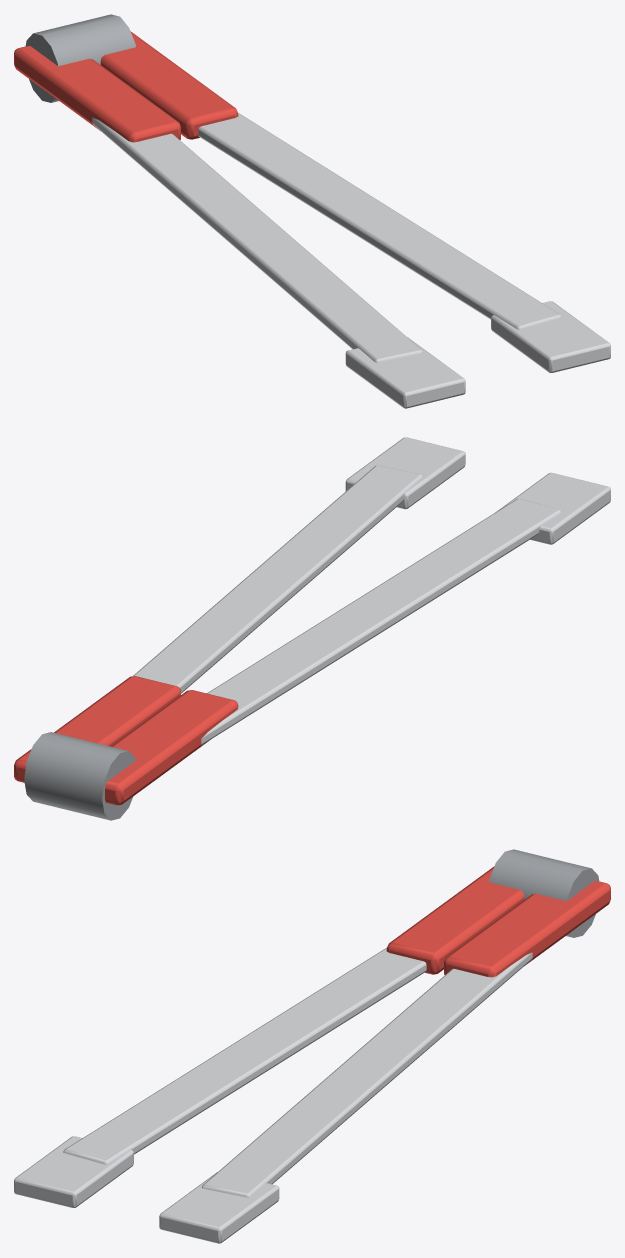
The model's file is Tongs.fbx.
3 views of the same model, one above another, from view 1: azimuth 30°, elevation 25°; view 2: azimuth 150°, elevation 25°; view 3: azimuth 330°, elevation 25° (orthographic).
Visible parts, largest first — view 1: Tongs; view 2: Tongs; view 3: Tongs.
Part boxes in pixels (bbox=[...]): Tongs: bbox=[14, 14, 610, 408]; Tongs: bbox=[14, 437, 610, 820]; Tongs: bbox=[14, 849, 610, 1243].
Bounding box in the file's own units: 0.08 × 0.024 × 0.297.
